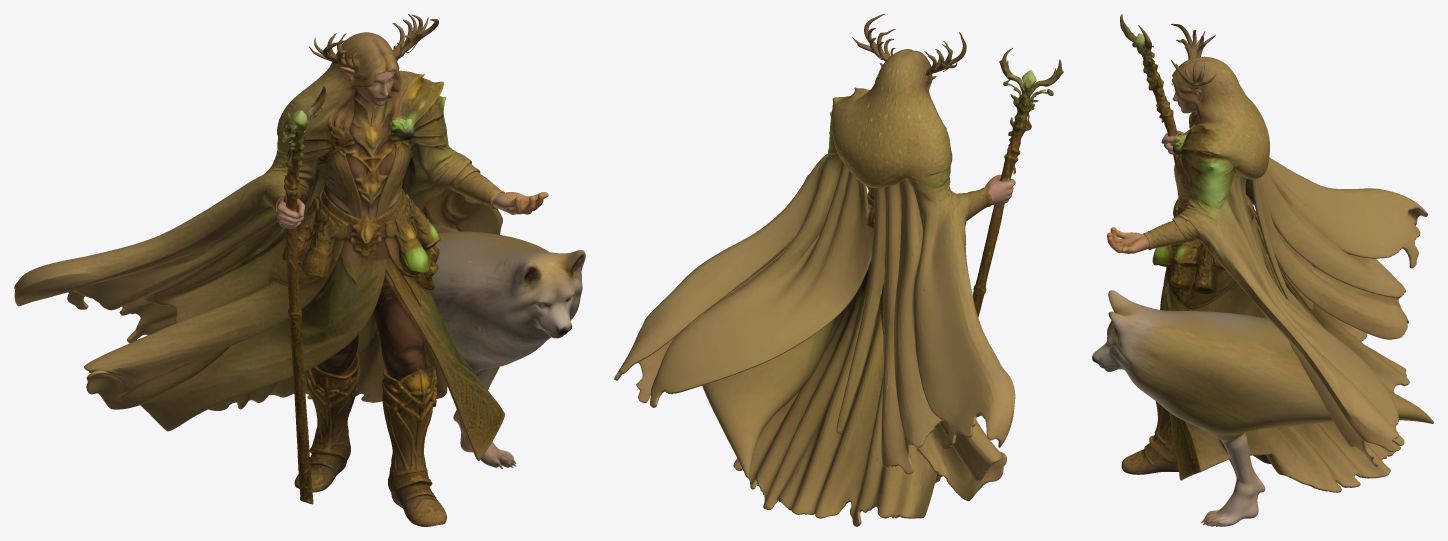
File: elf_druid_full_male_01.glb
The picture shows the model from 3 angles, left to right: view 1: azimuth 30°, elevation 25°; view 2: azimuth 150°, elevation 25°; view 3: azimuth 270°, elevation 25°; orthographic projection. The views are drawn at different scales.
Parts seen in each view (by area): view 1: material; view 2: material; view 3: material.
Boxes of the visible parts, x1,y1,x2,y2 form: material: (14,14,585,526); material: (614,14,1063,526); material: (1092,14,1433,526).
Size of the model in its own units: 0.9525 by 0.9753 by 0.7148.
Materials: 1 (1 with a texture image).
